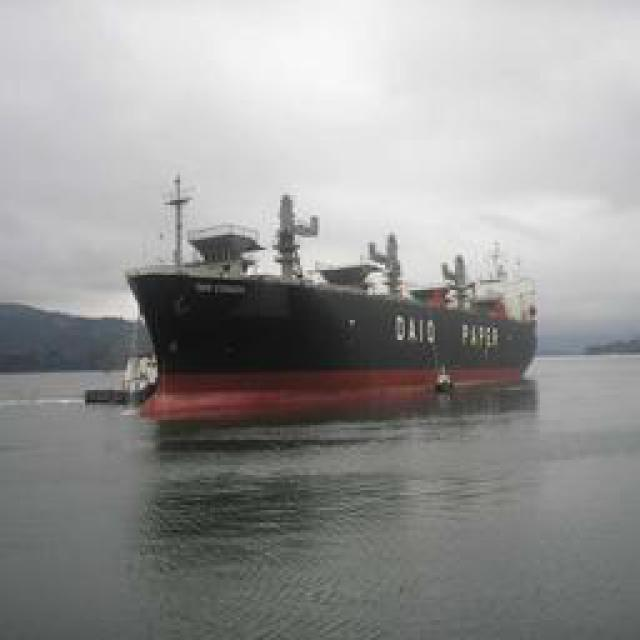Ship: (126, 244, 534, 419)
